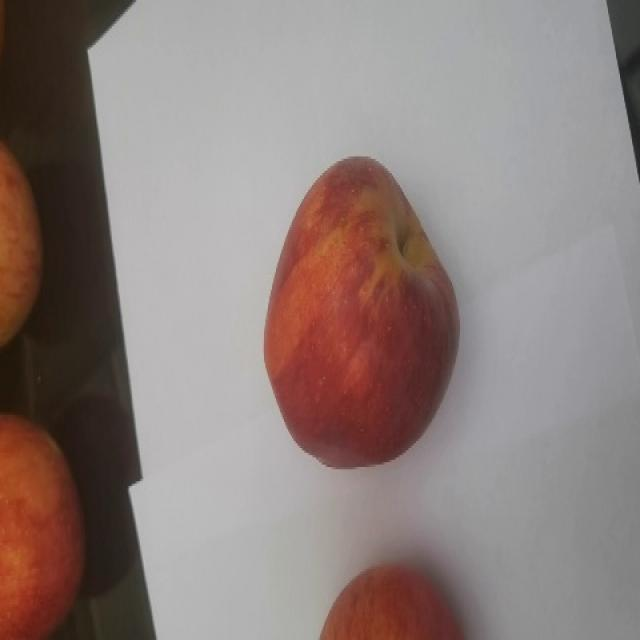Apple: (262, 154, 460, 469), (0, 412, 86, 639), (318, 563, 463, 639), (0, 139, 43, 347)
